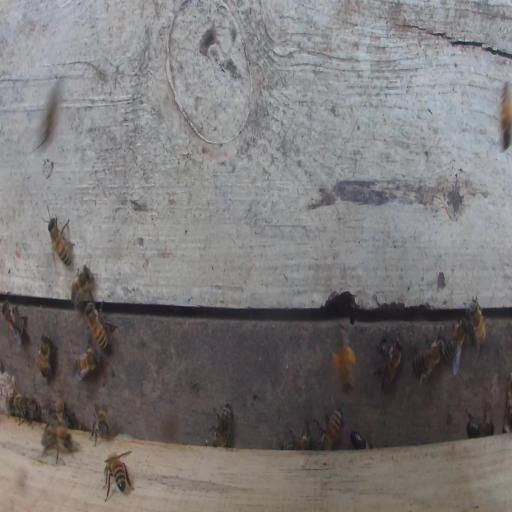nonpollenbee: (102, 449, 134, 502), (47, 208, 75, 268), (375, 336, 403, 389), (40, 422, 75, 464), (413, 339, 443, 386), (446, 316, 469, 375), (467, 291, 487, 358), (84, 301, 109, 351), (2, 300, 28, 347), (70, 264, 95, 308), (316, 408, 342, 449), (210, 402, 233, 448), (73, 346, 100, 379), (91, 404, 110, 446), (500, 79, 511, 151), (9, 393, 32, 426), (466, 411, 494, 437), (37, 332, 51, 380), (281, 432, 313, 450), (28, 397, 46, 423), (349, 430, 367, 449)
pollenbee: (332, 322, 356, 396)
